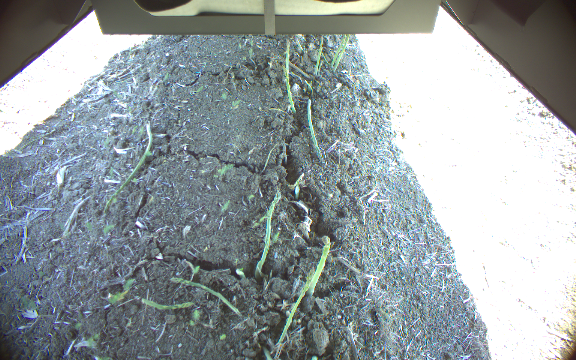aspa: (276, 264, 318, 348), (304, 235, 332, 300), (283, 38, 299, 115), (328, 34, 351, 67), (313, 33, 325, 75)
